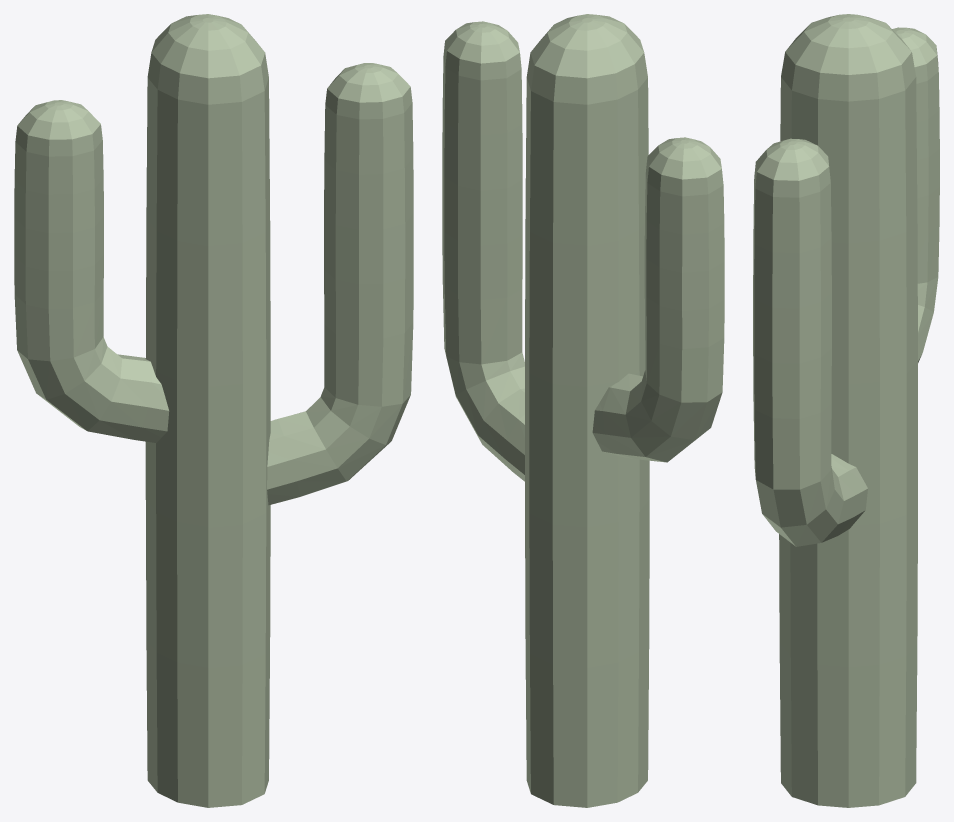
Rendered from SM_Desert_Saguaro_A.glb.
The picture shows the model from 3 angles, left to right: view 1: azimuth 30°, elevation 25°; view 2: azimuth 150°, elevation 25°; view 3: azimuth 270°, elevation 25°; orthographic projection.
Visible parts, largest first — view 1: SM_Desert_Saguaro_A; view 2: SM_Desert_Saguaro_A; view 3: SM_Desert_Saguaro_A.
Part boxes in pixels (left/top/right/bottom): SM_Desert_Saguaro_A: left=14, top=14, right=413, bottom=807; SM_Desert_Saguaro_A: left=442, top=14, right=724, bottom=807; SM_Desert_Saguaro_A: left=753, top=14, right=939, bottom=807.
Size of the model in its own units: 1.63 by 3.6 by 0.7983.
